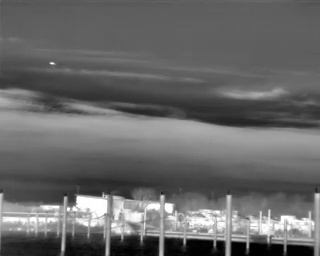BIRD: (47, 59, 57, 68)
